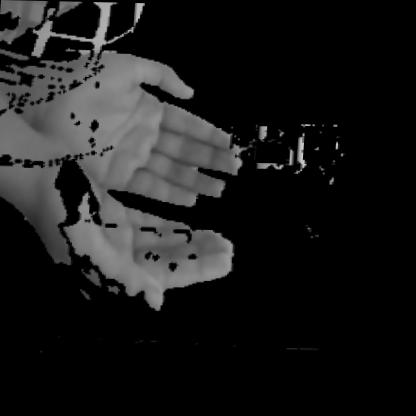dua: (0, 16, 279, 340)
